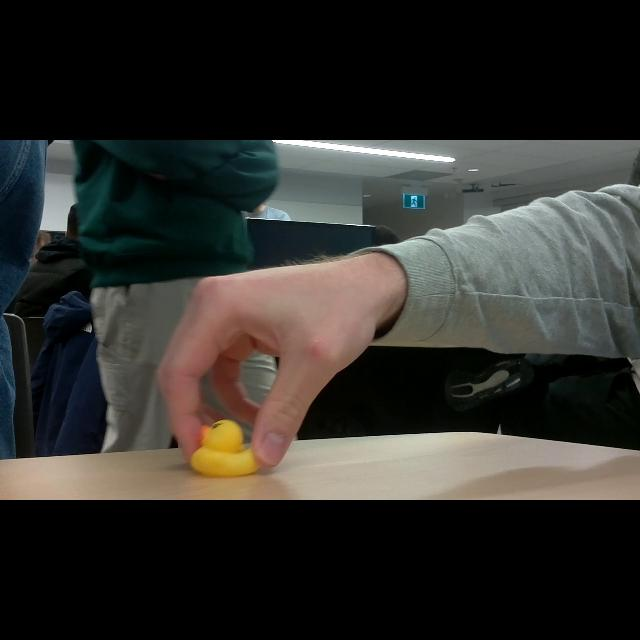duck_regular: (192, 420, 265, 476)
